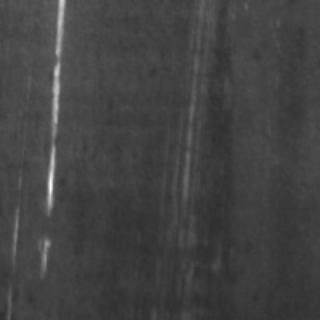scratches: (36, 0, 64, 270), (173, 47, 205, 205)
